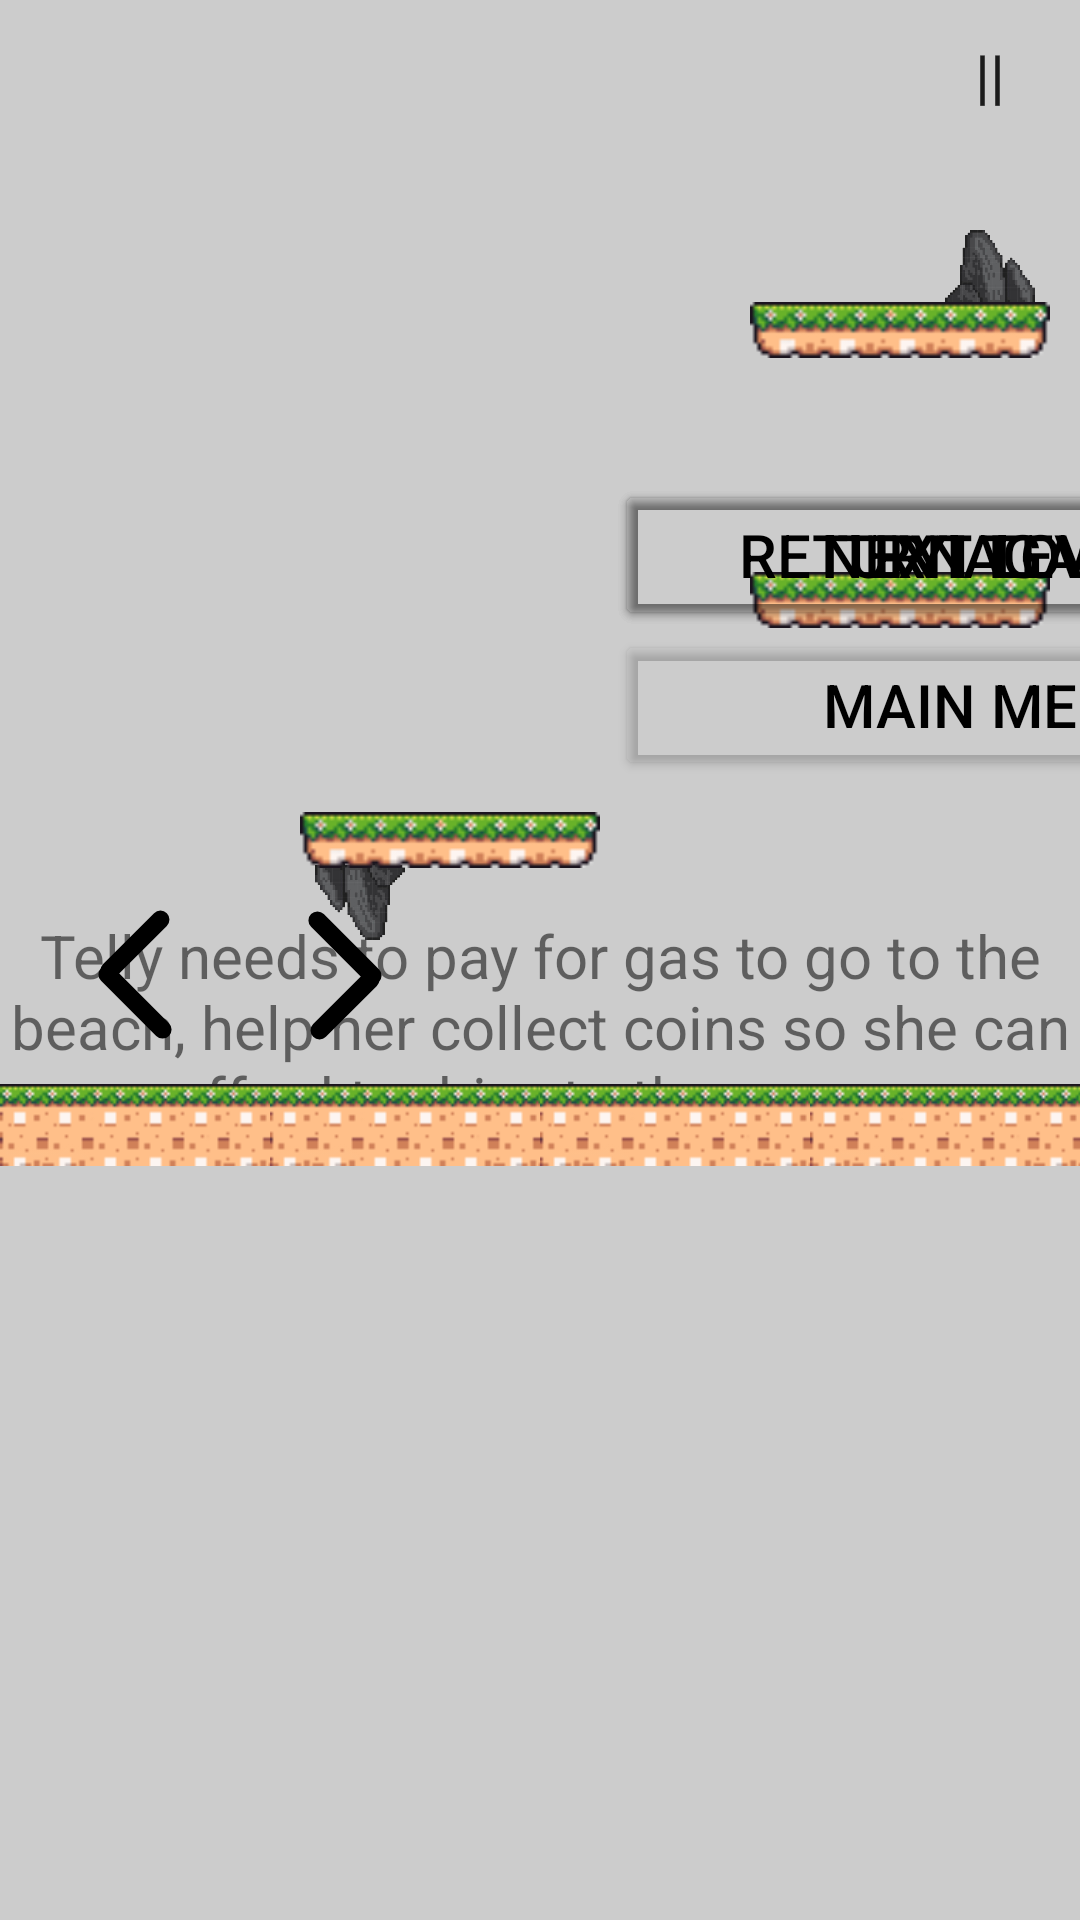

Icon bounding boxes for this 1080 x 1920 phone screenshot, format region(x1, y1, x2, y2):
springground: region(0, 1080, 300, 1166), region(270, 1080, 570, 1166), region(540, 1080, 840, 1166), region(810, 1084, 1080, 1166)
